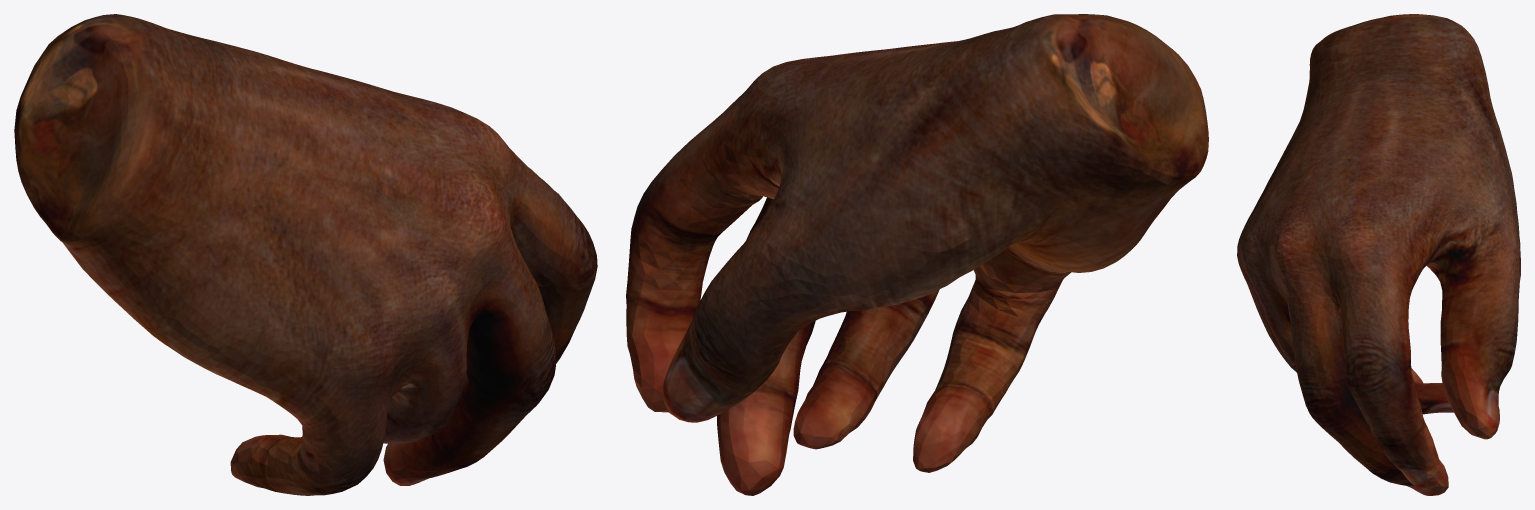
File: skin.obj
The picture shows the model from 3 angles, left to right: view 1: azimuth 30°, elevation 25°; view 2: azimuth 150°, elevation 25°; view 3: azimuth 270°, elevation 25°; orthographic projection. The views are drawn at different scales.
Bounding box in the file's own units: 136 × 128 × 86.8.
Materials: 1 (1 with a texture image).
